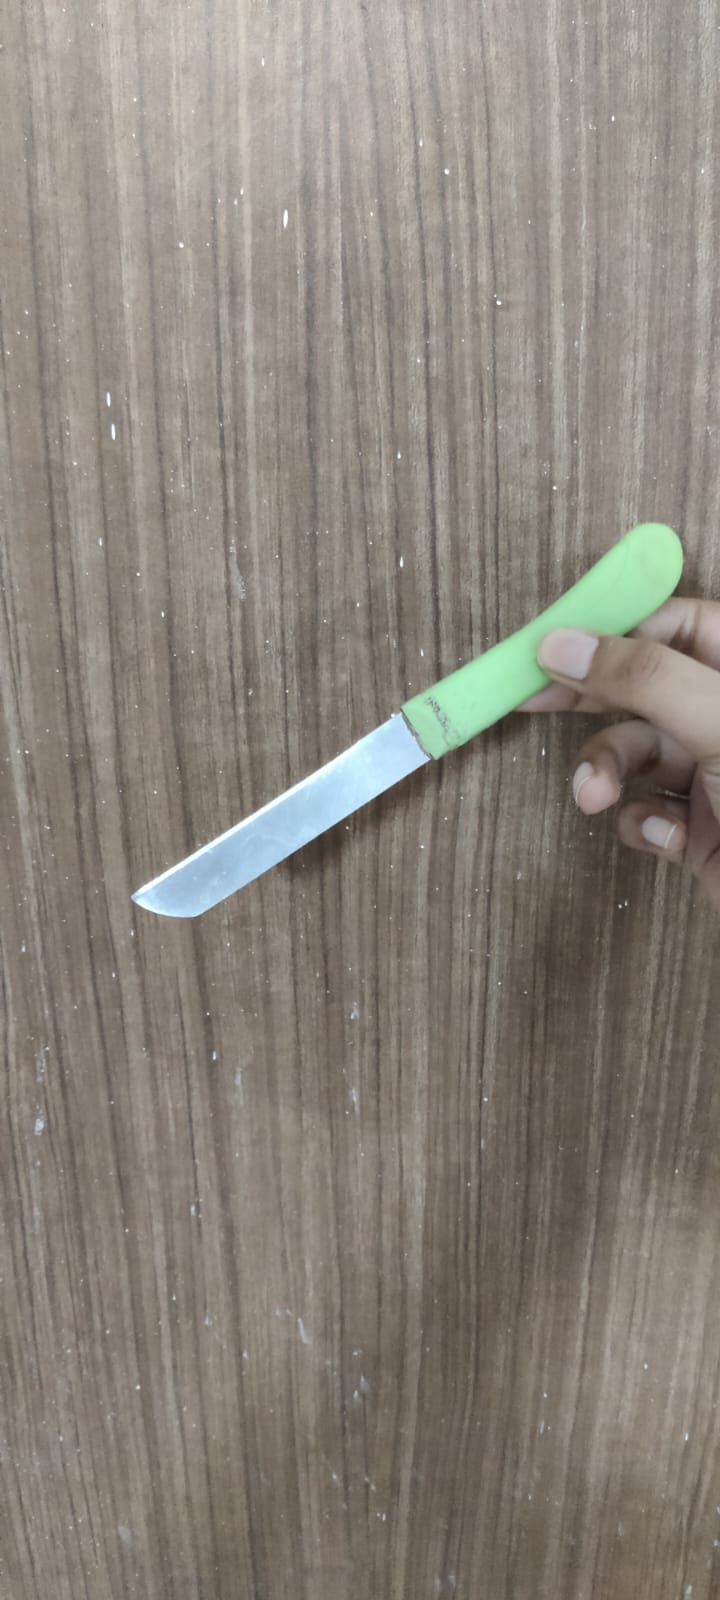knife: (128, 535, 680, 908)
